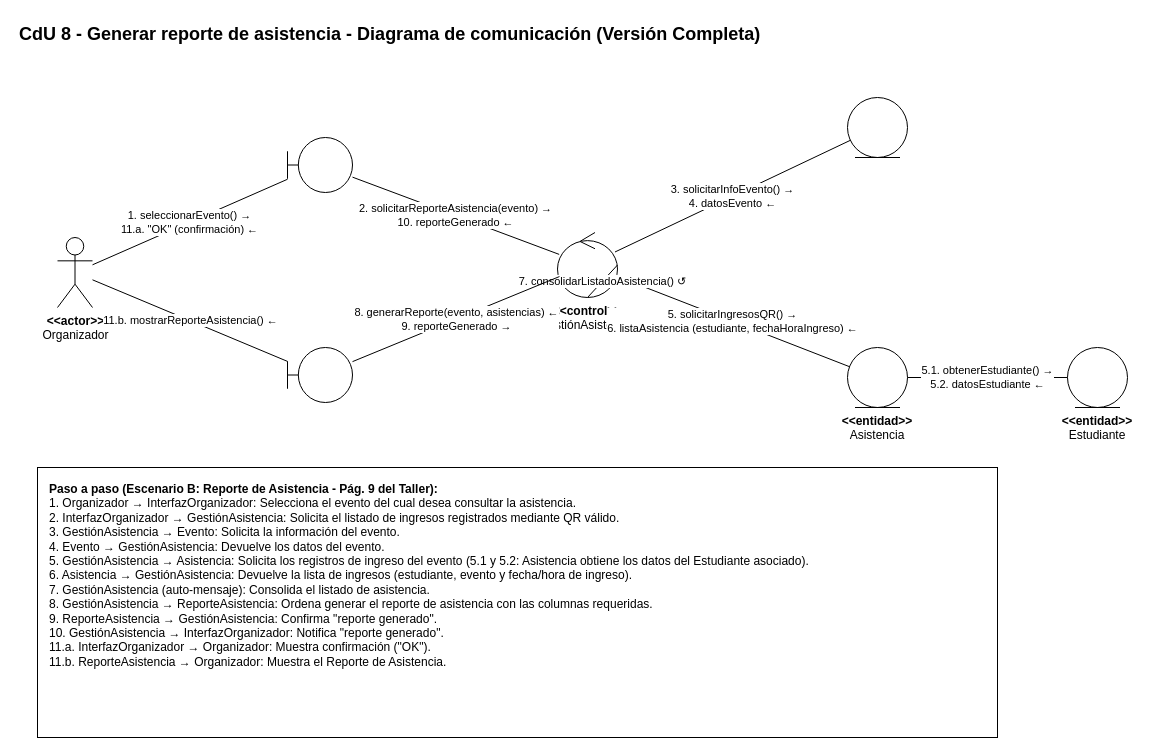
The diagram is 1150 pixels wide and 755 high, and some of its shapes have lost their labels. The shapes that lost their labels are listed below. From the top down, each one's centre as x and y in pixels, then its label:
At [877,127]: "<<entidad>> Evento".
At [319,164]: "<<límite>> InterfazOrganizador".
At [319,374]: "<<límite>> ReporteAsistencia".
